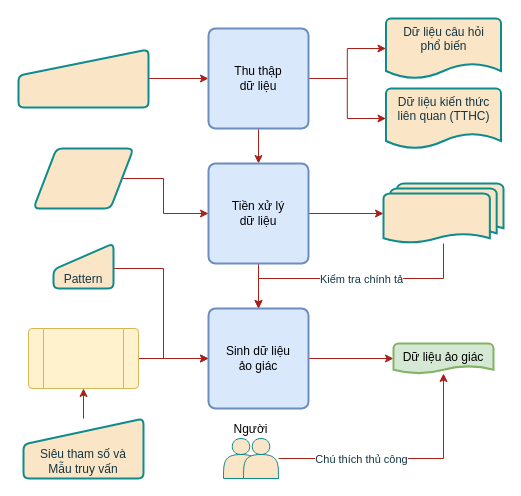
The diagram is 521 pixels wide and 496 high, and some of its shapes have lost their labels. The centre of each missing label's shape, as x and y in pixels:
Cổng Dịch vụ công Quốc gia: [83,78]
Dữ liệu thô: [83,178]
Dữ liệu đã được tiền xử lý: [443,213]
GPT-4o-mini API: [83,358]
